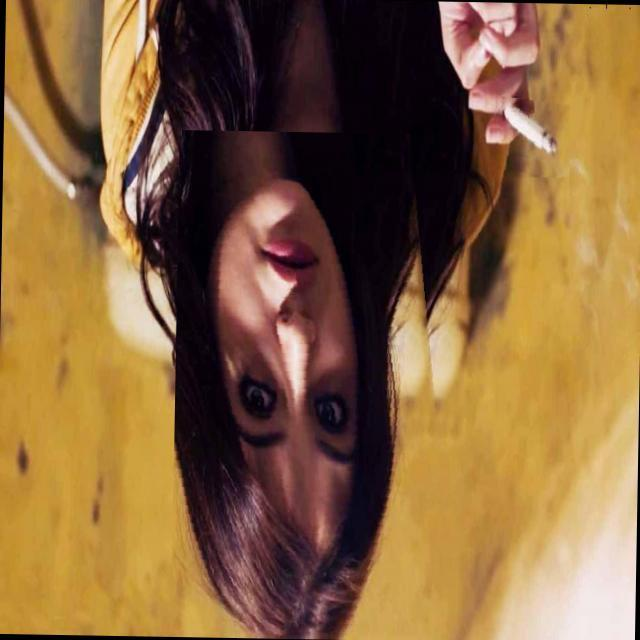cigarette: (491, 95, 570, 178)
